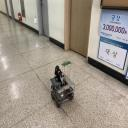cart: (50, 74, 75, 108)
